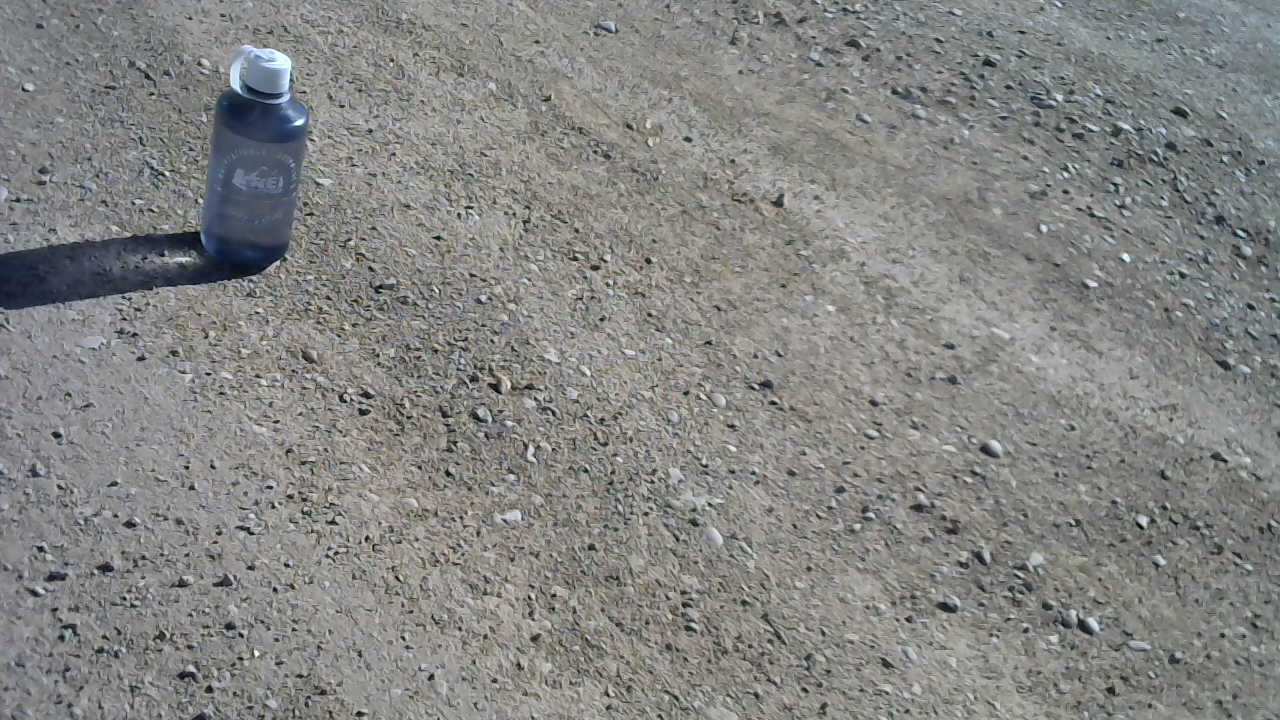bottle: (193, 36, 312, 289)
